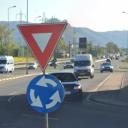preferencia: (12, 21, 71, 72)
